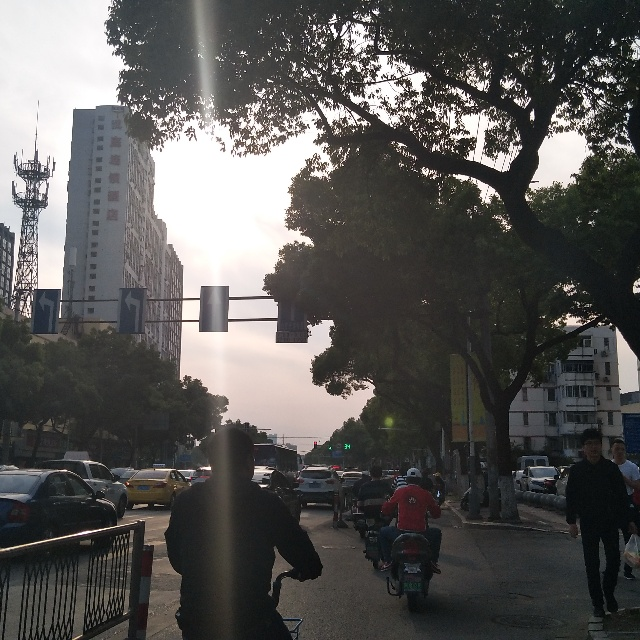left: (120, 290, 145, 336), (37, 290, 58, 334)
